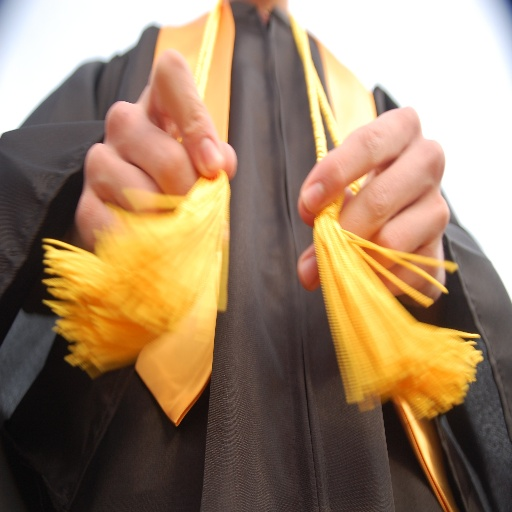hand: (75, 45, 237, 252), (294, 103, 451, 300)
